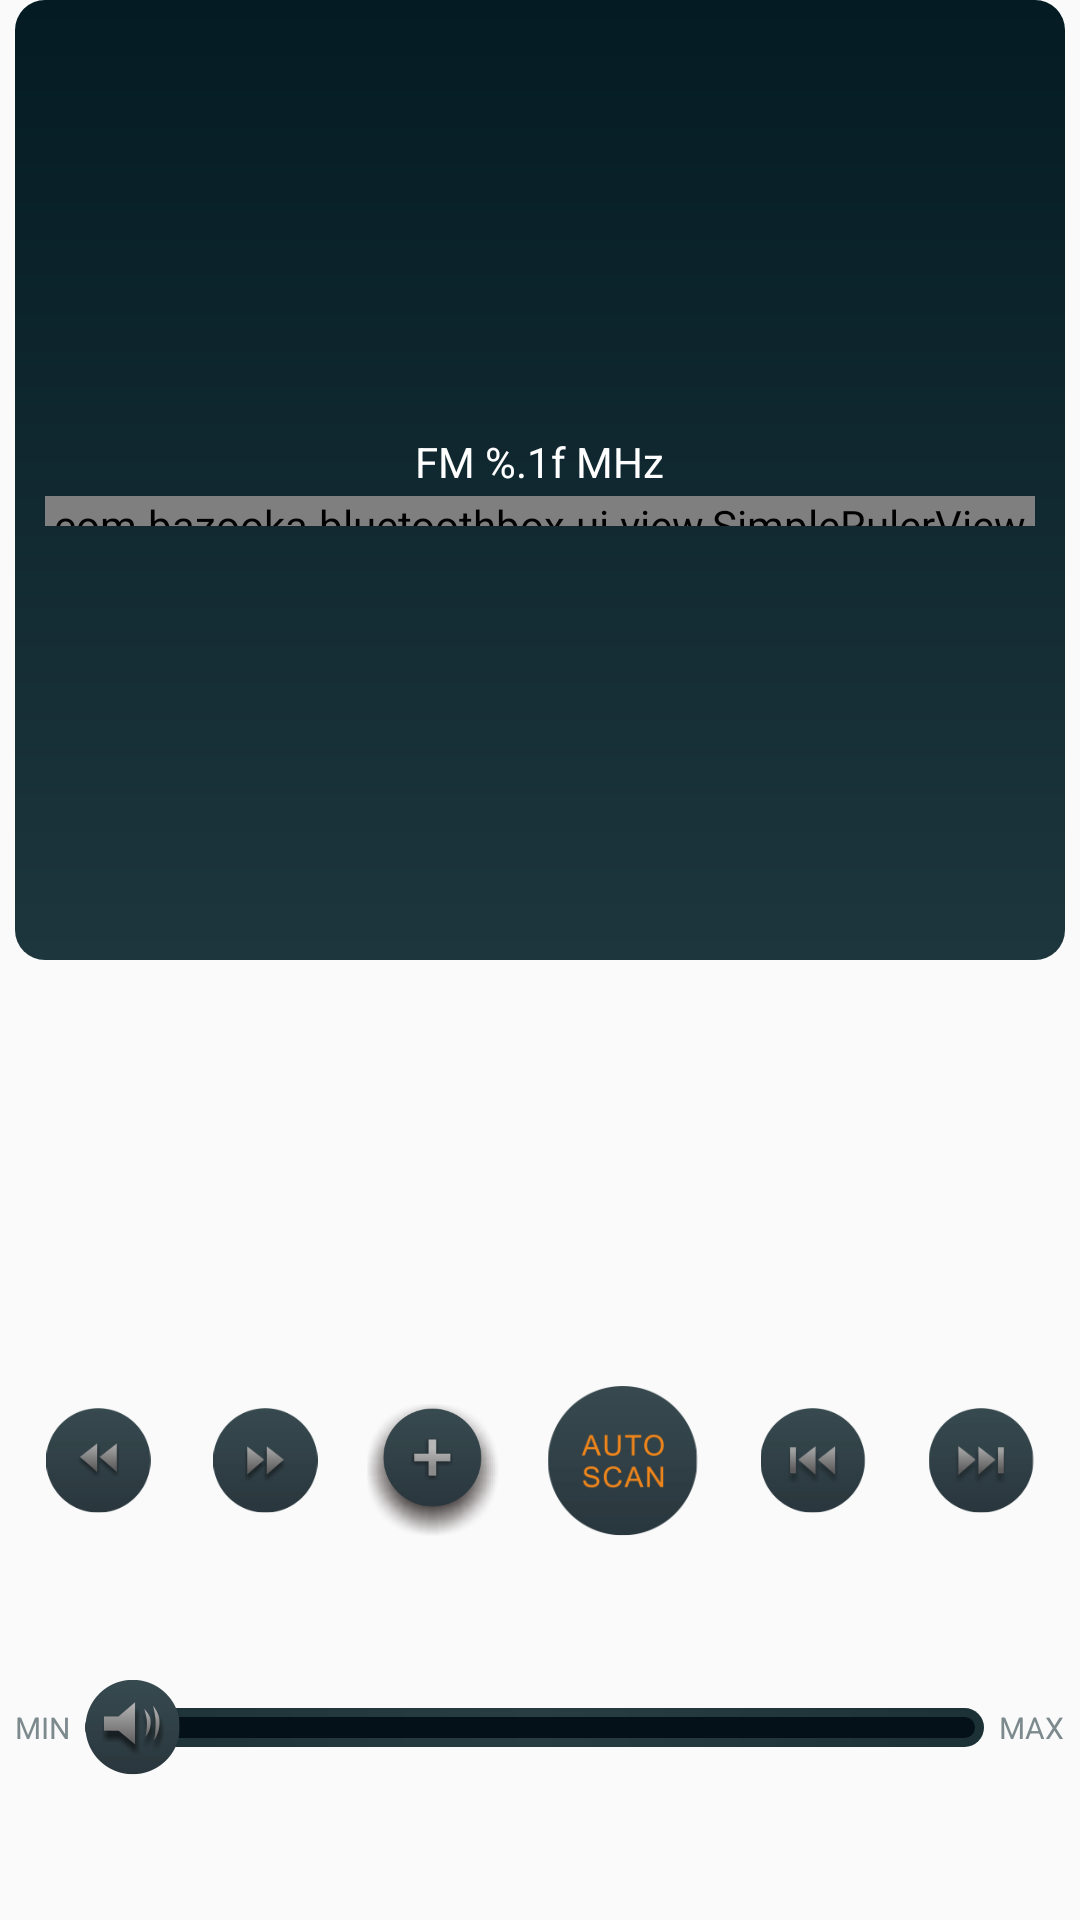

Named icons in this screenshot (1080px×1920px) and their bounding boxes, [x1,y1,x2,y2]:
add: [370,1407,495,1532]
micro next: [213,1408,318,1513]
micro pre: [46,1408,151,1513]
next: [929,1408,1034,1513]
previous: [761,1408,865,1513]
